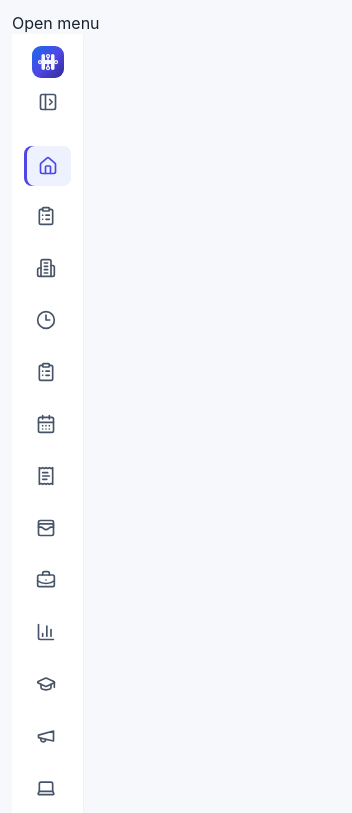
keeps authorized destinations and profile available in the collapsed rail
The width and height of the screenshot is (352, 813).
Click the link named "People". click: (48, 268)
box: [24, 246, 71, 290]
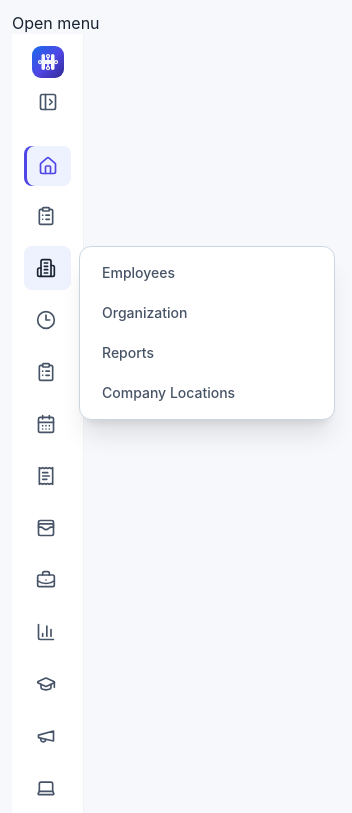
expect the button named "Expand navigation" is shown: met, box [22, 82, 74, 122]
expect the link "Organization" is shown: met, box [102, 304, 187, 321]
